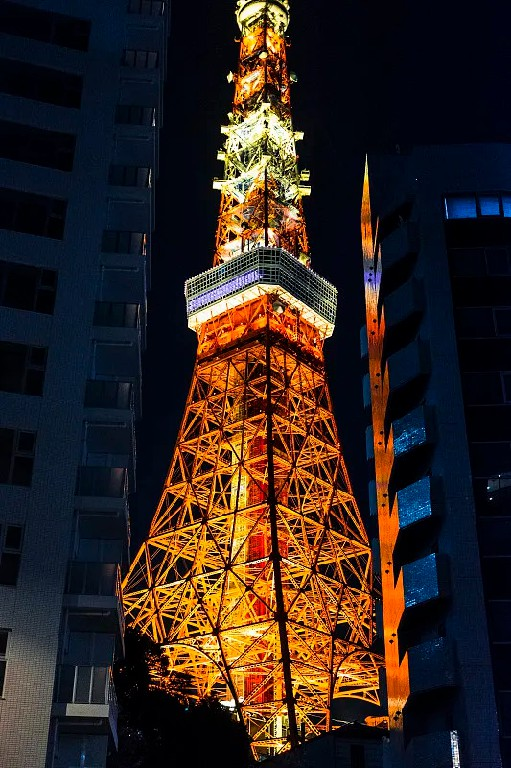Tokyo: (122, 1, 392, 759)
